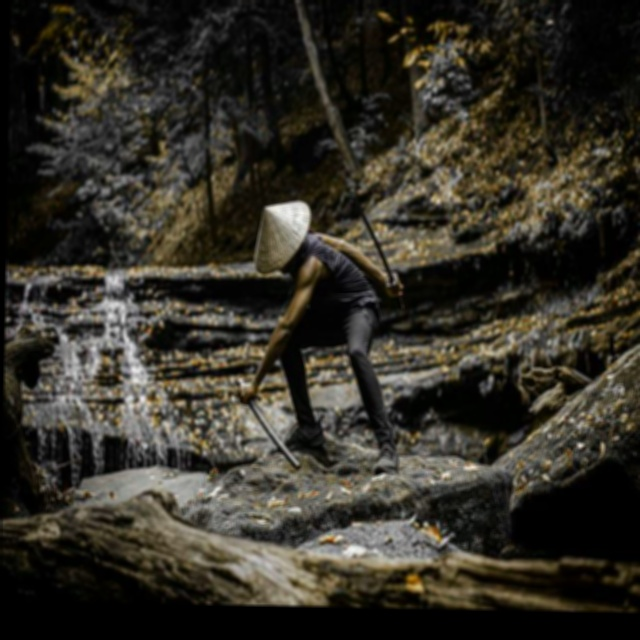Sharp-Object: (343, 194, 412, 313)
